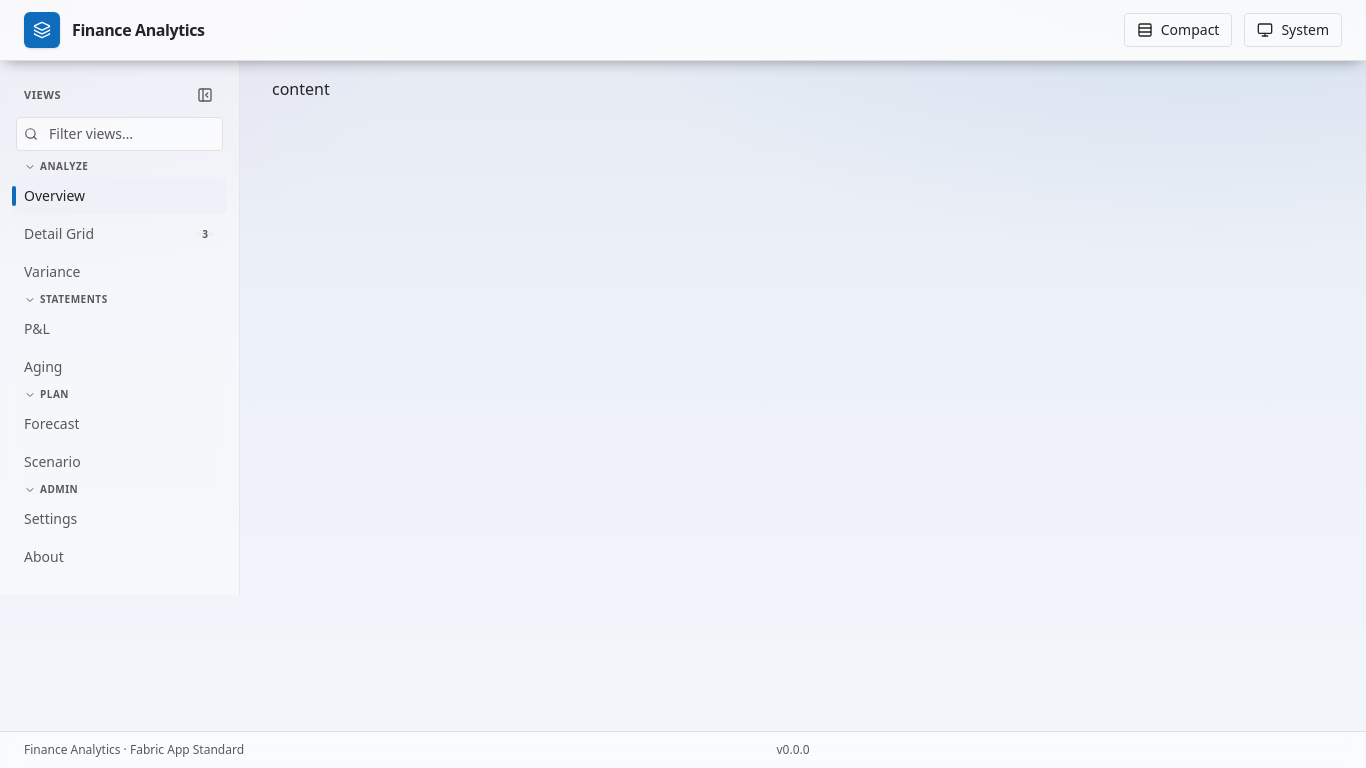
it: FabricAppShell sidebar › filters the nav list as you type
The image size is (1366, 768).
In the search field labelled "Filter views": coordinates (120, 134) [16,117,223,151], type "forecast"
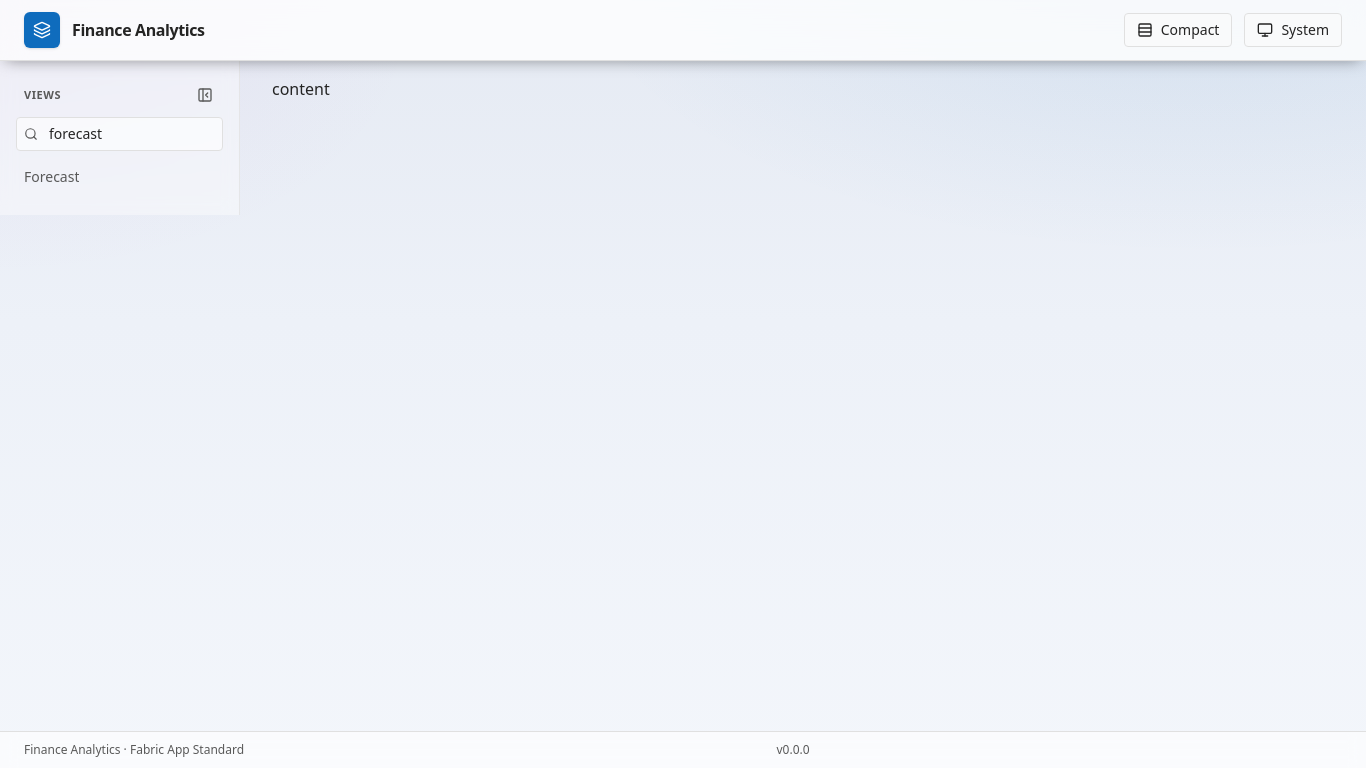
Check: the text "Forecast" is shown, box [24,167,80,187]
Check: the button "Overview" is gone
